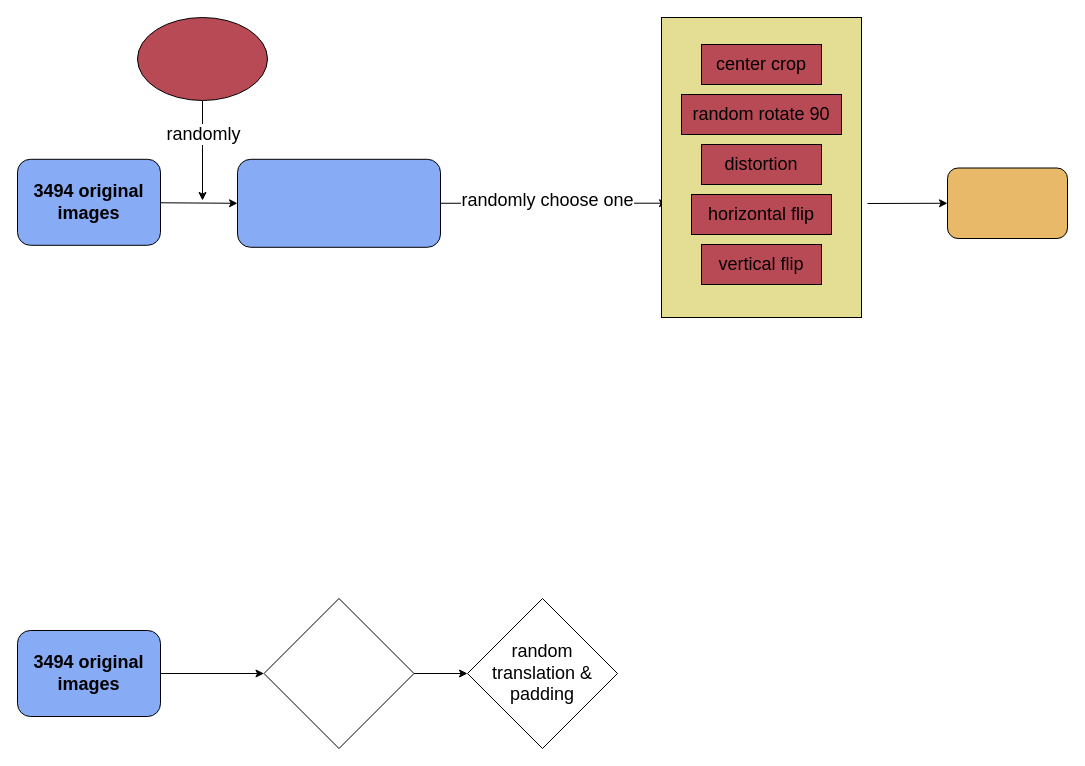
This 1085x766 diagram has some shape labels left out. Each missing label, with the centre of its shape:
6988 new images: the point at 1007,202
background images: the point at 202,58
left-right flip (P = 0.5): the point at 338,673
segmented car with new background: the point at 338,202
